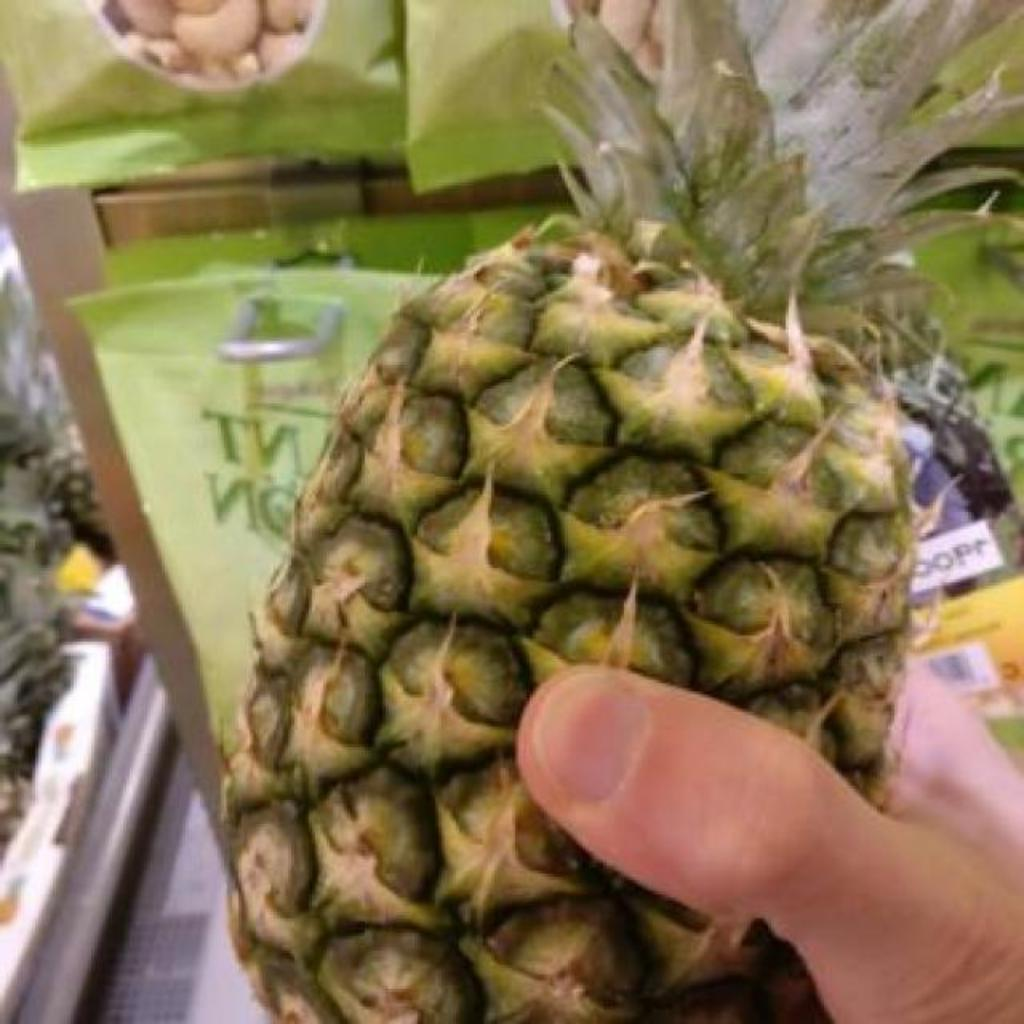pineapple: (226, 0, 1023, 1023)
